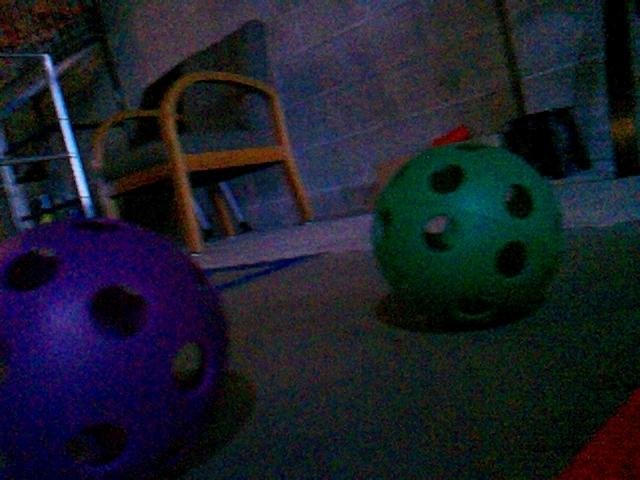Green: (368, 143, 565, 324)
Purple: (1, 218, 236, 480)
